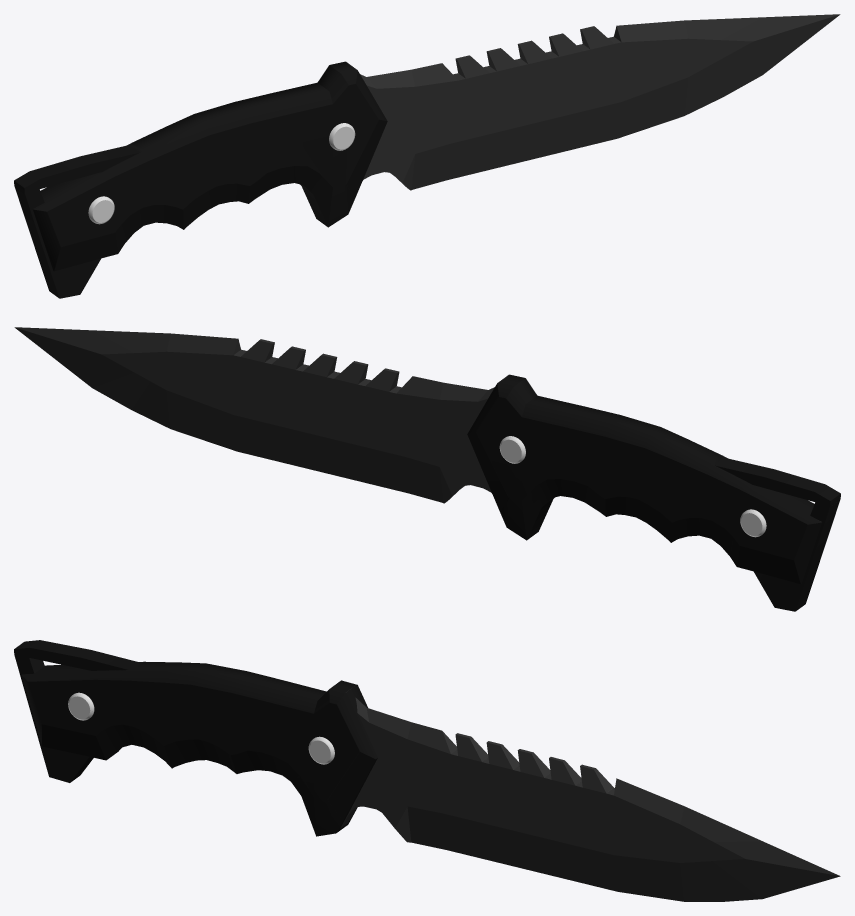
The model's file is knifevava.fbx.
3 views of the same model, one above another, from view 1: azimuth 30°, elevation 25°; view 2: azimuth 150°, elevation 25°; view 3: azimuth 330°, elevation 25° (orthographic).
Parts seen in each view (by area): view 1: Cube.001; view 2: Cube.001; view 3: Cube.001.
Boxes of the visible parts, x1,y1,x2,y2 form: Cube.001: (14, 14, 840, 298); Cube.001: (14, 327, 840, 611); Cube.001: (14, 640, 840, 901).
Bounding box in the file's own units: 460 × 84.56 × 22.99.
